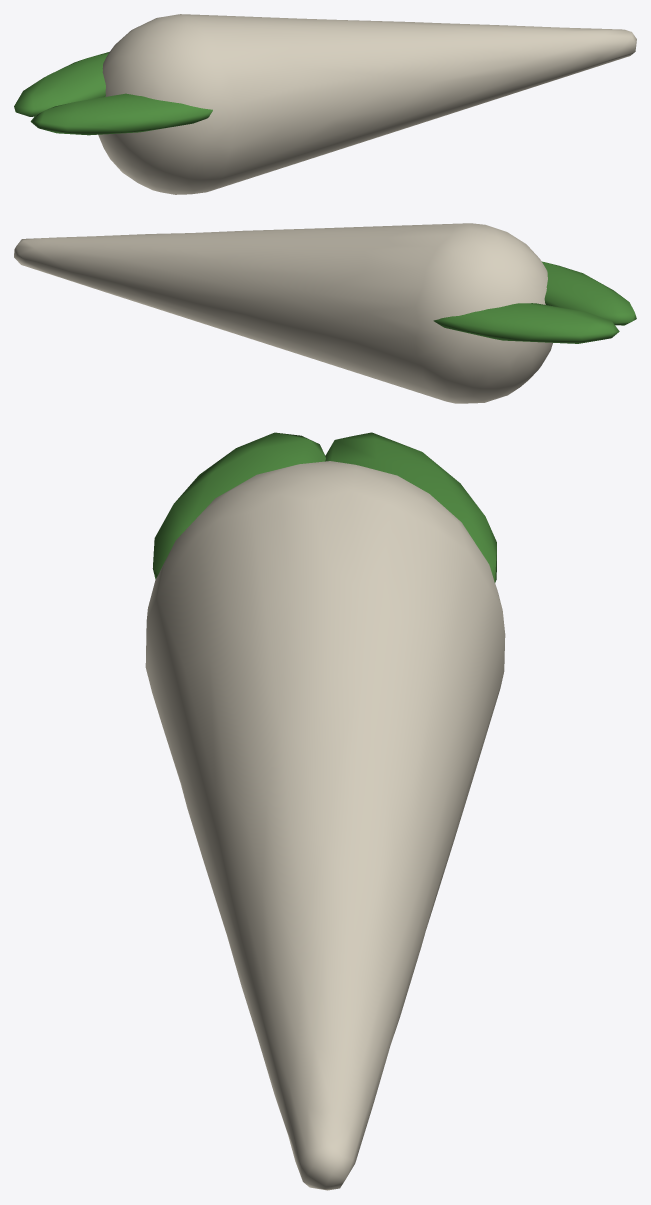
File: cu_cai.glb
3 views of the same model, one above another, from view 1: azimuth 30°, elevation 25°; view 2: azimuth 150°, elevation 25°; view 3: azimuth 270°, elevation 25° (orthographic). The views are drawn at different scales.
Parts seen in each view (by area): view 1: cu_cai; view 2: cu_cai; view 3: cu_cai.
Boxes of the visible parts, left/top/right/bottom form: cu_cai: left=14, top=14, right=636, bottom=194; cu_cai: left=14, top=223, right=636, bottom=403; cu_cai: left=145, top=432, right=505, bottom=1190.
Bounding box in the file's own units: 0.2496 × 0.064 × 0.0636.
